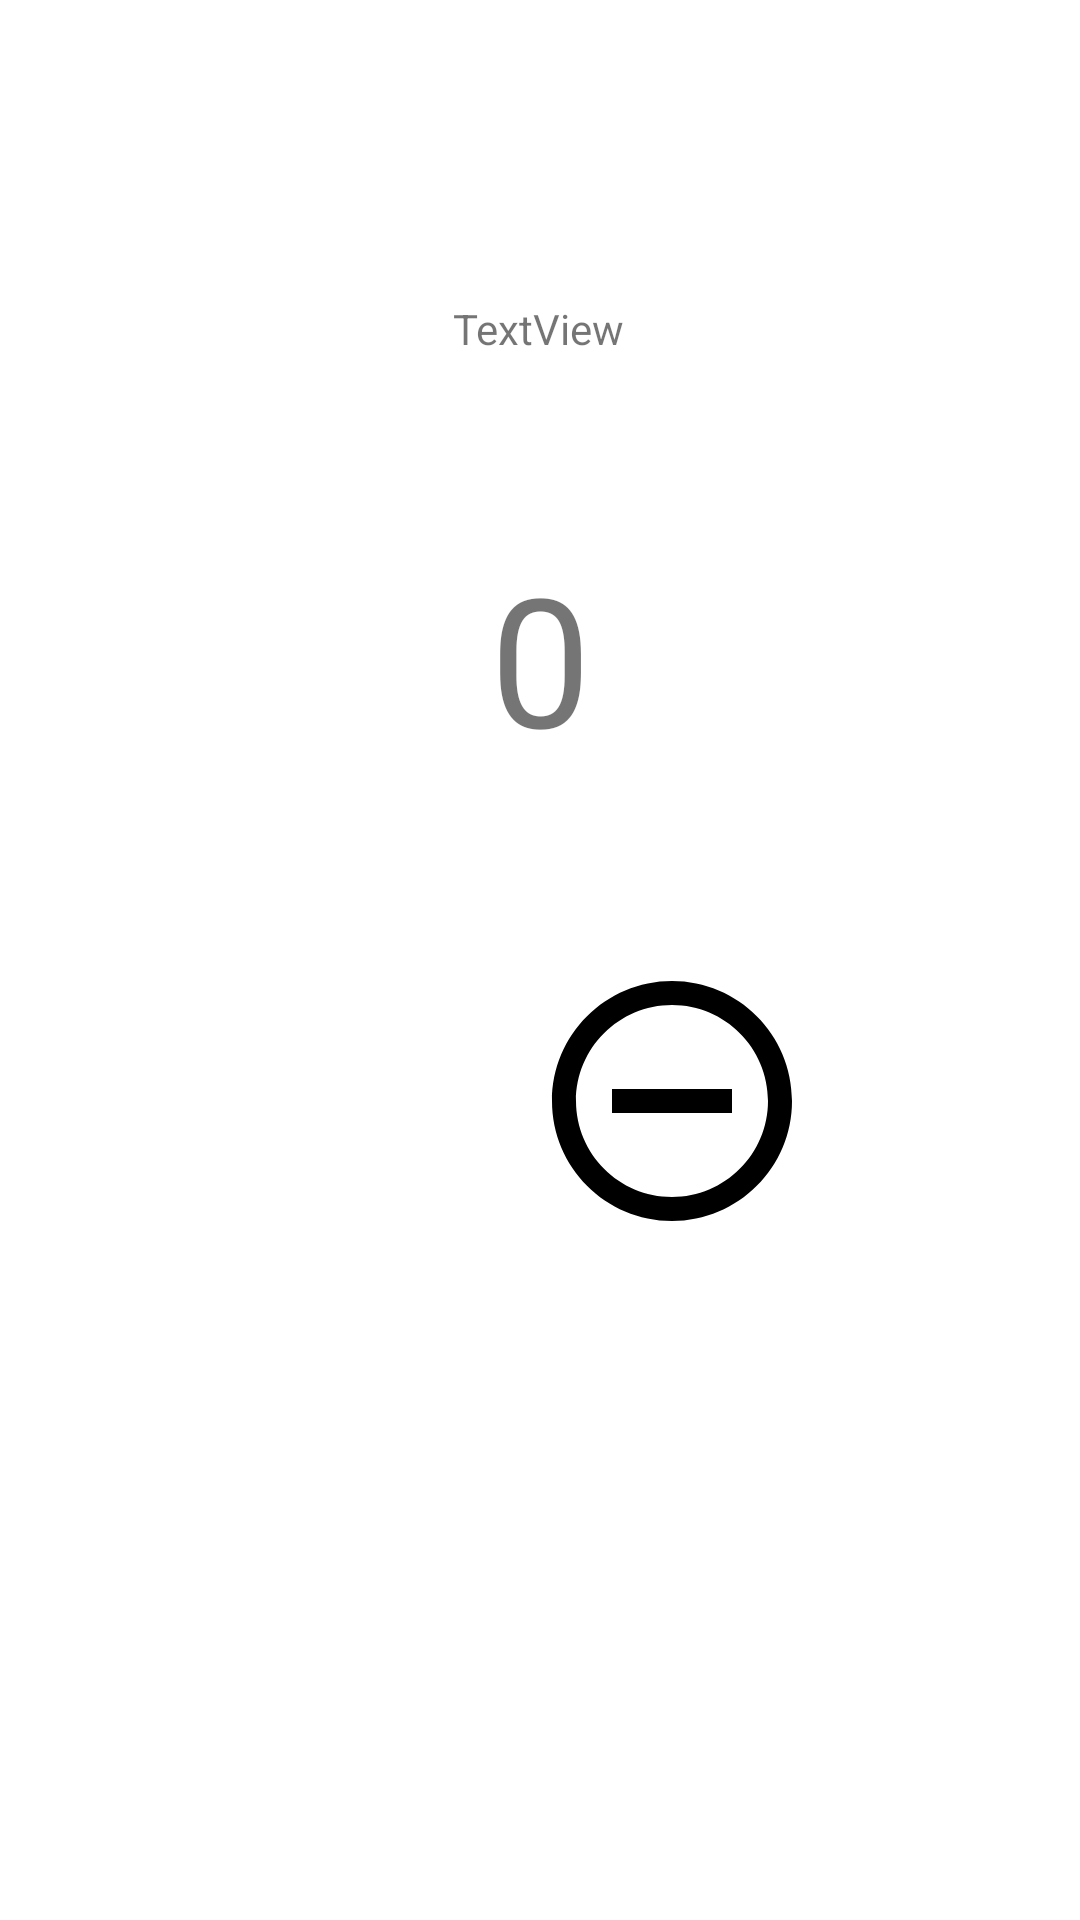

Locate icon controls on the screen. Image size 1080 × 1920, boxes as (x1, y1, x2, y2).
remove circle: (552, 981, 792, 1221)
